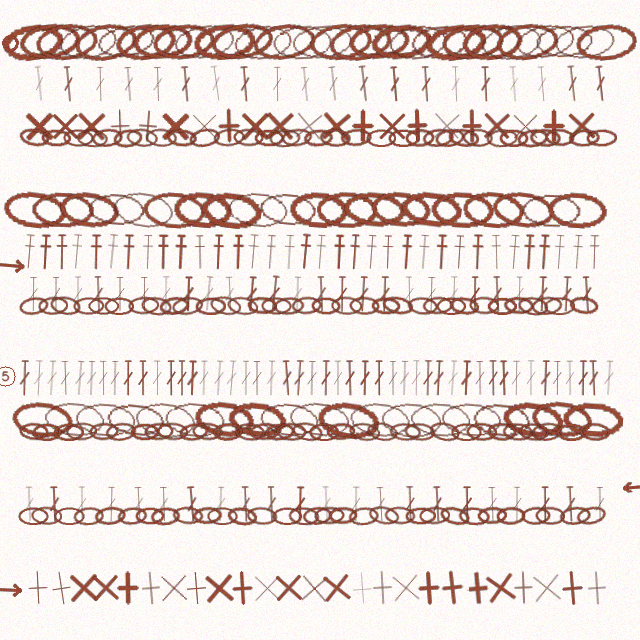chain: (72, 19, 139, 65), (512, 19, 579, 64), (110, 187, 177, 232), (209, 19, 275, 64), (490, 188, 557, 232), (132, 398, 199, 442), (55, 19, 120, 64), (93, 19, 158, 64), (171, 20, 237, 64), (251, 20, 317, 64), (327, 20, 393, 64), (478, 20, 544, 64), (315, 398, 381, 442), (494, 20, 561, 63), (1, 188, 68, 231), (0, 20, 65, 64), (423, 20, 488, 64), (57, 188, 122, 232), (500, 398, 565, 442), (34, 20, 100, 63), (113, 20, 179, 63), (286, 398, 352, 441), (529, 398, 595, 441), (17, 20, 82, 63), (308, 20, 373, 63), (460, 20, 525, 63), (192, 398, 257, 441), (552, 21, 618, 63), (399, 188, 463, 231), (151, 21, 216, 63), (440, 21, 505, 63), (10, 399, 75, 441), (257, 399, 322, 441), (347, 399, 412, 441), (225, 189, 291, 230), (162, 399, 228, 440), (369, 21, 433, 63), (574, 21, 638, 63), (199, 189, 263, 231), (103, 399, 167, 441), (347, 21, 412, 62), (231, 21, 294, 63), (386, 21, 449, 63), (226, 399, 289, 441), (131, 21, 195, 62), (192, 21, 256, 62), (407, 21, 471, 62), (256, 189, 320, 230), (342, 189, 406, 230), (369, 189, 433, 230), (461, 189, 525, 230), (42, 399, 106, 440), (469, 399, 533, 440), (290, 22, 355, 62), (142, 190, 207, 230), (439, 400, 504, 440), (73, 400, 137, 440), (379, 400, 443, 440), (408, 400, 472, 440), (172, 189, 234, 230), (546, 190, 609, 230), (561, 400, 624, 440), (430, 190, 494, 229), (533, 22, 596, 61), (85, 190, 148, 229), (288, 190, 350, 229), (31, 191, 94, 229), (519, 191, 582, 229), (271, 23, 333, 61), (316, 191, 377, 228), (438, 504, 471, 528), (367, 504, 401, 527), (188, 126, 221, 149), (49, 294, 82, 317), (209, 294, 242, 317), (381, 294, 414, 317), (291, 420, 324, 443), (366, 420, 399, 443), (428, 420, 461, 443), (575, 504, 608, 527), (18, 126, 50, 149), (434, 126, 466, 149), (516, 127, 549, 149), (140, 295, 173, 317), (171, 295, 204, 317), (226, 295, 259, 317), (348, 421, 381, 443), (112, 127, 144, 149), (18, 295, 50, 317), (448, 295, 480, 317), (517, 295, 549, 317), (178, 421, 210, 443), (226, 505, 258, 527), (447, 127, 480, 148), (91, 127, 123, 148), (126, 127, 158, 148), (213, 127, 245, 148), (281, 127, 313, 148), (422, 127, 454, 148), (158, 295, 190, 316), (531, 295, 563, 316), (568, 295, 600, 316), (105, 421, 137, 442), (531, 421, 563, 442), (94, 505, 126, 526), (559, 505, 591, 526), (302, 505, 333, 526), (76, 128, 108, 148), (269, 128, 301, 148), (486, 128, 518, 148), (568, 128, 600, 148), (273, 296, 305, 316), (234, 422, 266, 442), (389, 422, 421, 442), (404, 422, 436, 442), (502, 422, 534, 442), (246, 506, 278, 526), (288, 506, 320, 526), (458, 506, 490, 526), (166, 128, 197, 148), (303, 128, 334, 148), (407, 296, 438, 316), (264, 422, 295, 442), (518, 422, 549, 442), (73, 506, 104, 526), (117, 506, 148, 526), (150, 506, 181, 526), (348, 506, 379, 526), (145, 128, 177, 147), (319, 128, 351, 147), (340, 128, 372, 147), (529, 128, 561, 147), (422, 296, 454, 315), (248, 422, 280, 441), (172, 506, 204, 525), (384, 506, 416, 525), (233, 128, 264, 147), (462, 128, 493, 147), (128, 296, 159, 315), (291, 296, 322, 315), (331, 296, 362, 315), (349, 296, 380, 315), (503, 296, 534, 315), (66, 422, 97, 441), (157, 422, 188, 441), (192, 422, 223, 441), (212, 422, 243, 441), (276, 422, 307, 441), (466, 422, 497, 441), (579, 422, 610, 441), (31, 506, 62, 525), (192, 506, 223, 525), (314, 506, 345, 525), (419, 506, 450, 525), (405, 128, 435, 147), (545, 128, 575, 147), (38, 296, 68, 315), (247, 296, 277, 315), (469, 296, 499, 315), (19, 422, 49, 441), (89, 422, 119, 441), (144, 422, 174, 441), (326, 422, 356, 441), (487, 422, 517, 441), (328, 506, 358, 525), (477, 506, 507, 525), (496, 506, 526, 525), (521, 506, 551, 525), (535, 506, 565, 525), (63, 129, 94, 147), (388, 129, 419, 147), (586, 129, 617, 147), (73, 297, 104, 315), (88, 297, 119, 315), (195, 297, 226, 315), (261, 297, 292, 315), (544, 297, 575, 315), (53, 423, 84, 441), (451, 423, 482, 441), (18, 507, 49, 525), (54, 507, 85, 525), (207, 507, 238, 525), (405, 507, 436, 525), (41, 129, 71, 147), (254, 129, 284, 147), (366, 129, 396, 147), (499, 129, 529, 147), (104, 297, 134, 315), (311, 297, 341, 315), (371, 297, 401, 315), (436, 297, 466, 315), (487, 297, 517, 315), (32, 423, 62, 441), (130, 423, 160, 441), (309, 423, 339, 441), (556, 423, 586, 441), (135, 507, 165, 525), (272, 507, 302, 525)
double: (208, 65, 224, 102), (356, 65, 372, 102), (32, 65, 47, 102), (326, 65, 341, 102), (565, 65, 580, 102), (593, 65, 608, 102), (201, 275, 216, 312), (267, 275, 282, 312), (61, 66, 76, 102), (298, 66, 313, 102), (244, 276, 259, 312), (224, 360, 239, 396), (122, 66, 136, 102), (179, 66, 193, 102), (238, 66, 252, 102), (388, 66, 402, 102), (419, 66, 433, 102), (507, 66, 521, 102), (535, 66, 549, 102), (356, 276, 370, 312), (580, 276, 594, 312), (45, 360, 59, 396), (73, 360, 87, 396), (212, 360, 226, 396), (280, 360, 294, 396), (292, 360, 306, 396), (446, 360, 460, 396), (602, 360, 616, 396), (185, 486, 199, 522), (151, 66, 164, 102), (449, 66, 462, 102), (479, 66, 492, 102), (92, 276, 105, 312), (182, 276, 195, 312), (223, 276, 236, 312), (291, 276, 304, 312), (315, 276, 328, 312), (378, 276, 391, 312), (447, 276, 460, 312), (491, 276, 504, 312), (536, 276, 549, 312), (560, 276, 573, 312), (18, 360, 31, 396), (32, 360, 45, 396), (85, 360, 98, 396), (186, 360, 199, 396), (265, 360, 278, 396), (398, 360, 411, 396), (432, 360, 445, 396), (460, 360, 473, 396), (539, 360, 552, 396), (587, 360, 600, 396), (23, 486, 36, 522), (48, 486, 61, 522), (132, 486, 145, 522), (157, 486, 170, 522), (214, 486, 227, 522), (239, 486, 252, 522), (265, 486, 278, 522), (320, 486, 333, 522), (374, 486, 387, 522), (431, 486, 444, 522), (564, 486, 577, 522), (94, 66, 106, 102), (271, 66, 283, 102), (27, 276, 39, 312), (50, 276, 62, 312), (72, 276, 84, 312), (114, 276, 126, 312), (138, 276, 150, 312), (160, 276, 172, 312), (336, 276, 348, 312), (403, 276, 415, 312), (425, 276, 437, 312), (469, 276, 481, 312), (513, 276, 525, 312), (59, 360, 71, 396), (97, 360, 109, 396), (109, 360, 121, 396), (122, 360, 134, 396), (137, 360, 149, 396), (151, 360, 163, 396), (165, 360, 177, 396), (176, 360, 188, 396), (198, 360, 210, 396), (240, 360, 252, 396), (251, 360, 263, 396), (306, 360, 318, 396), (320, 360, 332, 396), (332, 360, 344, 396), (344, 360, 356, 396), (359, 360, 371, 396), (373, 360, 385, 396), (387, 360, 399, 396), (410, 360, 422, 396), (422, 360, 434, 396), (474, 360, 486, 396), (487, 360, 499, 396), (498, 360, 510, 396), (510, 360, 522, 396), (525, 360, 537, 396), (551, 360, 563, 396), (564, 360, 576, 396), (577, 360, 589, 396), (76, 486, 88, 522), (105, 486, 117, 522), (294, 486, 306, 522), (350, 486, 362, 522), (404, 486, 416, 522), (461, 486, 473, 522), (486, 486, 498, 522), (511, 486, 523, 522), (539, 486, 551, 522), (594, 486, 606, 522)
half_double: (68, 233, 85, 270), (104, 233, 121, 270), (297, 233, 314, 270), (21, 233, 37, 270), (245, 233, 261, 270), (363, 234, 379, 270), (416, 234, 432, 270), (451, 234, 467, 270), (506, 234, 522, 270), (521, 234, 537, 270), (536, 234, 552, 270), (551, 234, 567, 270), (38, 234, 53, 270), (121, 234, 136, 270), (140, 234, 155, 270), (173, 234, 188, 270), (211, 234, 226, 270), (263, 234, 278, 270), (282, 234, 297, 270), (313, 234, 328, 270), (347, 234, 362, 270), (380, 234, 395, 270), (399, 234, 414, 270), (434, 234, 449, 270), (470, 234, 485, 270), (570, 234, 585, 270), (55, 234, 69, 270), (89, 234, 103, 270), (156, 234, 170, 270), (193, 234, 207, 270), (231, 234, 245, 270), (332, 234, 346, 270), (489, 234, 503, 270), (587, 234, 601, 270)
noise: (0, 32, 21, 54), (0, 257, 27, 273), (0, 364, 17, 388), (0, 583, 24, 597), (620, 481, 640, 493)
single: (480, 567, 521, 608), (41, 568, 81, 608), (289, 106, 328, 145), (317, 568, 356, 607), (386, 568, 425, 607), (433, 568, 472, 607), (527, 568, 566, 607), (129, 107, 167, 145), (317, 107, 355, 145), (132, 569, 170, 607), (177, 569, 215, 607), (200, 569, 238, 607), (223, 569, 261, 607), (295, 569, 333, 607), (342, 569, 380, 607), (410, 569, 448, 607), (458, 569, 496, 607), (553, 569, 591, 607), (578, 569, 616, 607), (101, 107, 138, 144), (210, 107, 247, 144), (261, 107, 298, 144), (399, 107, 436, 144), (428, 107, 465, 144), (478, 107, 515, 144), (563, 107, 600, 144), (19, 569, 56, 606), (65, 569, 102, 606), (87, 569, 124, 606), (155, 569, 192, 606), (270, 569, 307, 606), (364, 569, 401, 606), (505, 569, 542, 606), (21, 108, 57, 144), (47, 108, 83, 144), (73, 108, 109, 144), (157, 108, 193, 144), (186, 108, 222, 144), (237, 108, 273, 144), (345, 108, 381, 144), (374, 108, 410, 144), (454, 108, 490, 144), (507, 108, 543, 144), (536, 108, 572, 144), (110, 570, 146, 606), (249, 570, 285, 606)
